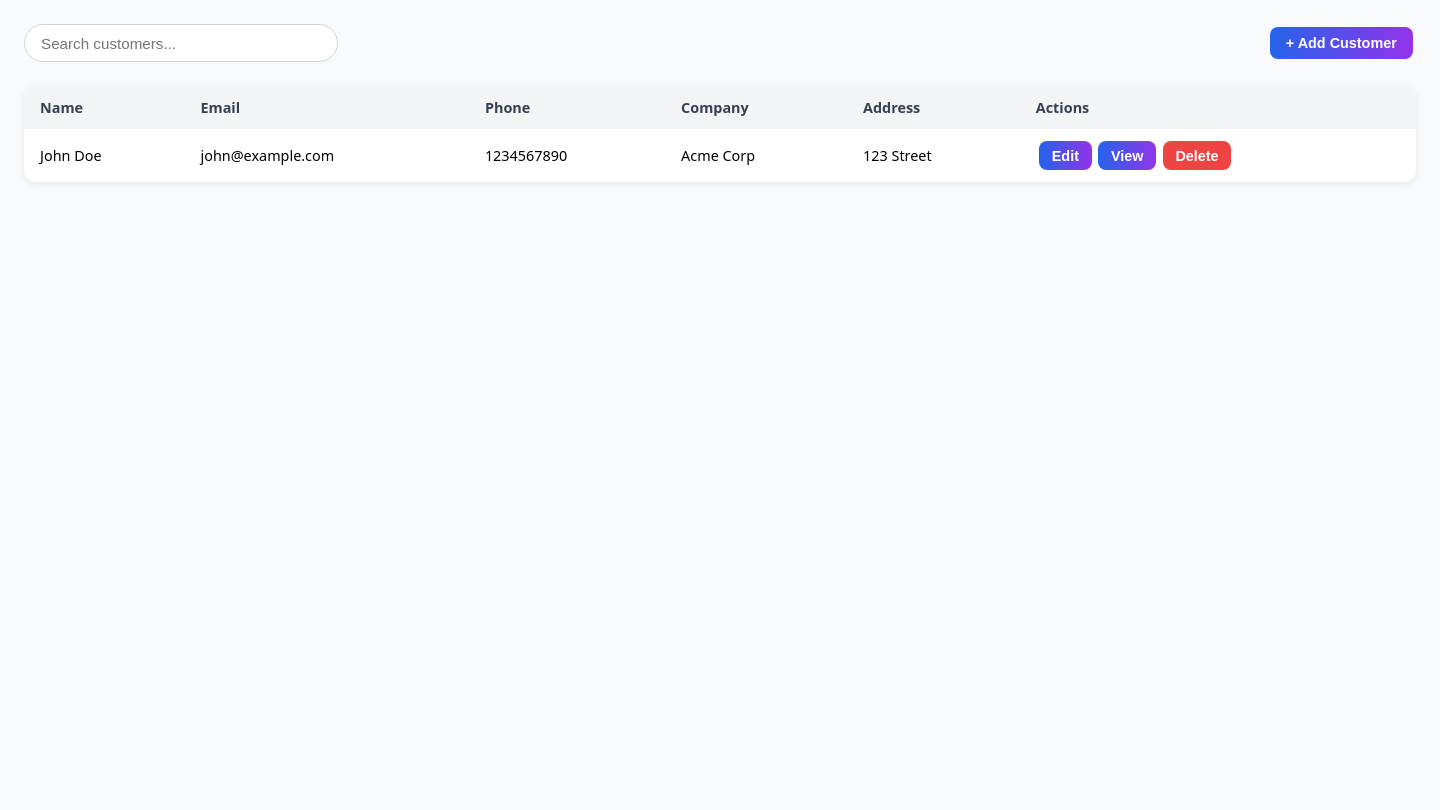
Test case: CustomerList.vue › opens view contacts modal
Click the button "View". click: (1127, 156)
box: [1098,141,1156,170]
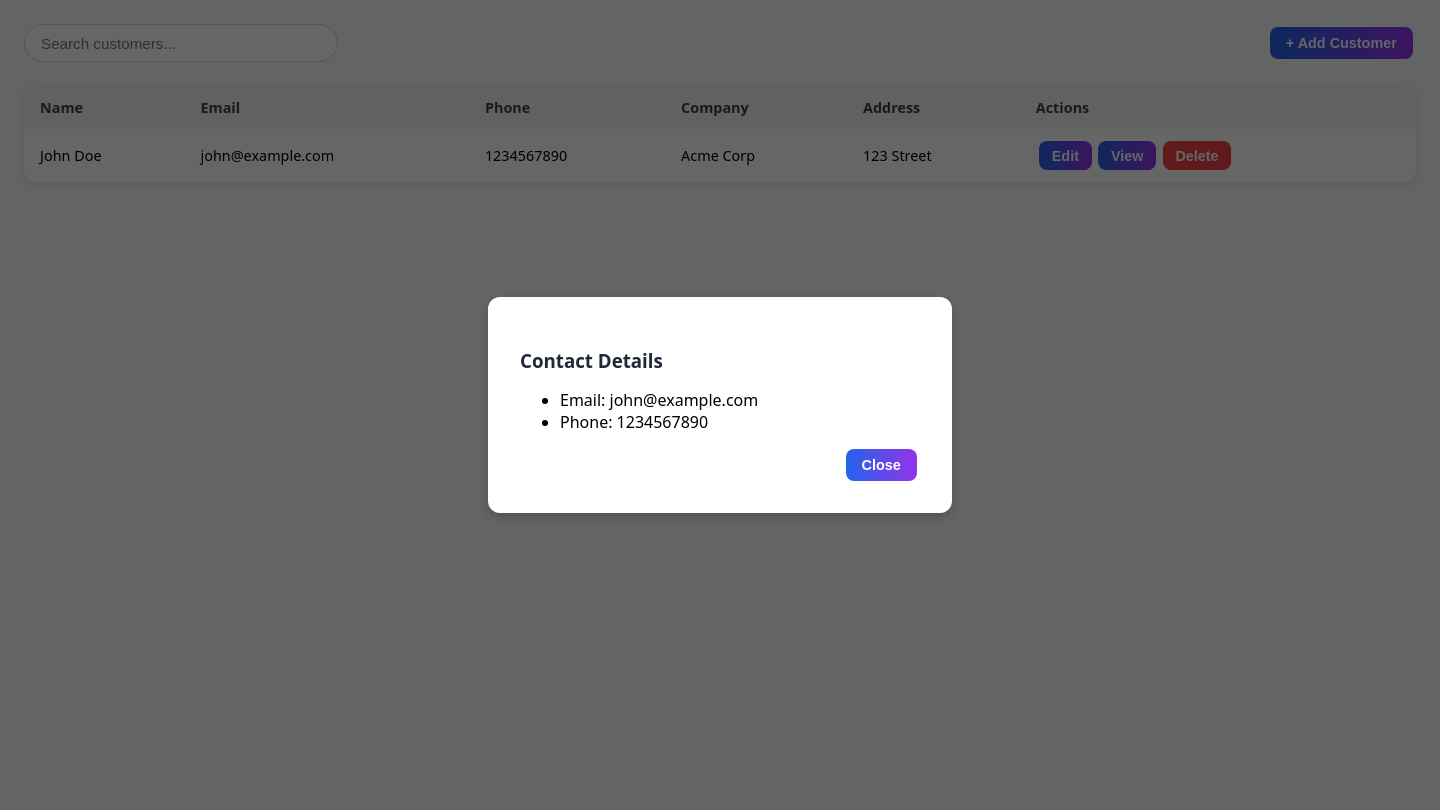
Expected: the heading "Contact Details" is shown, [520,348,663,373]
